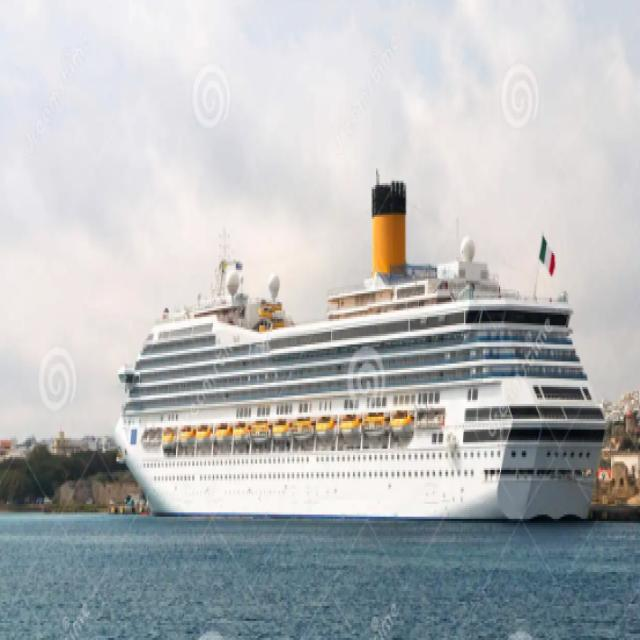passenger ship: (118, 138, 613, 548)
